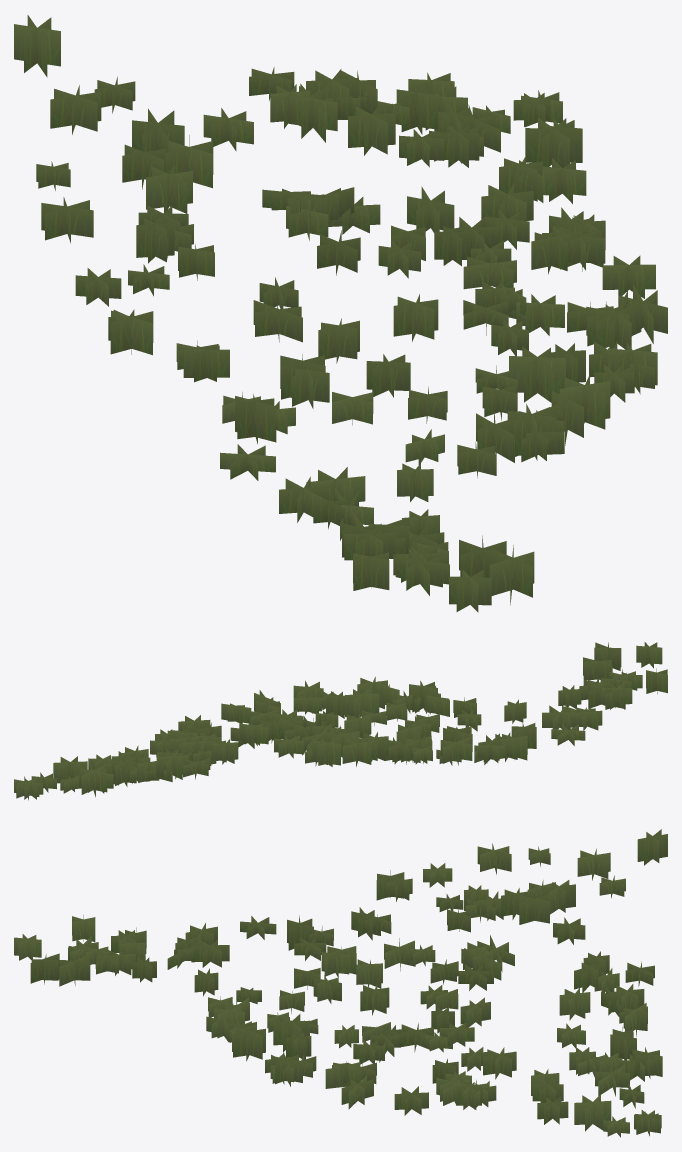
Rendered from TRB8-GRASS-CHUNK-6-6.glb.
3 views of the same model, one above another, from view 1: azimuth 30°, elevation 25°; view 2: azimuth 150°, elevation 25°; view 3: azimuth 270°, elevation 25° (orthographic). The views are drawn at different scales.
Visible parts, largest first — view 1: TRB8-GRASS-CHUNK-6-6; view 2: TRB8-GRASS-CHUNK-6-6; view 3: TRB8-GRASS-CHUNK-6-6.
Boxes of the visible parts, left/top/right/bottom form: TRB8-GRASS-CHUNK-6-6: left=14, top=15, right=667, bottom=612; TRB8-GRASS-CHUNK-6-6: left=14, top=642, right=667, bottom=800; TRB8-GRASS-CHUNK-6-6: left=14, top=829, right=667, bottom=1137.
Bounding box in the file's own units: 7.81 × 2.73 × 10.54.
1 material, 1 textured.
